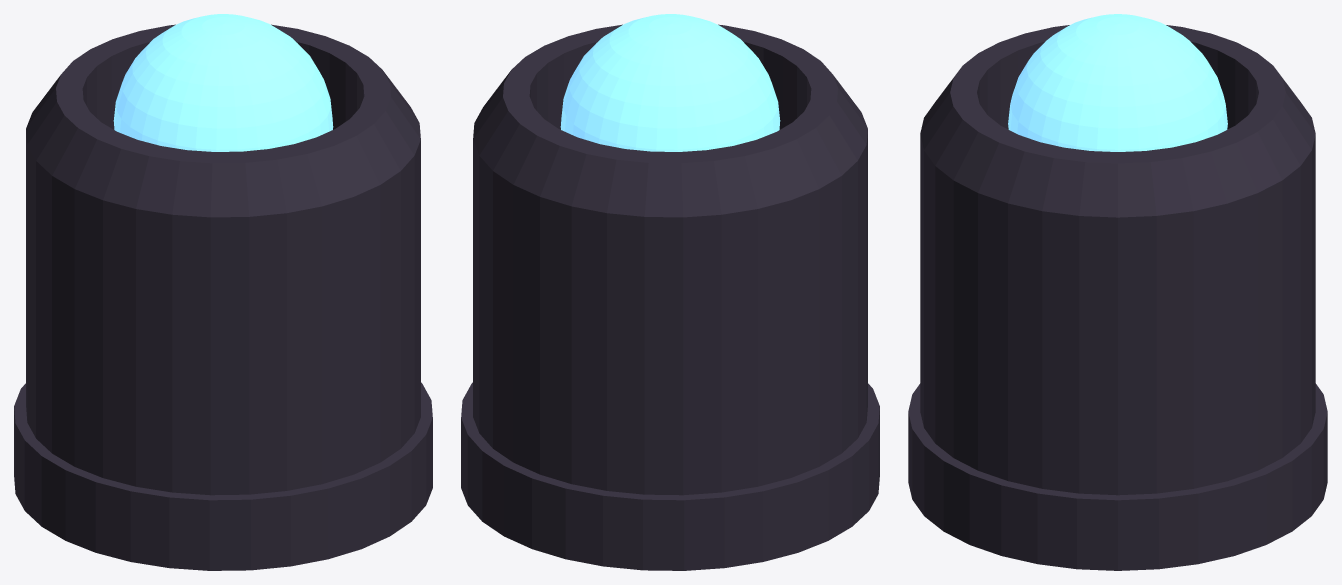
File: Player.fbx
3 renders of one model, left to right at view 1: azimuth 30°, elevation 25°; view 2: azimuth 150°, elevation 25°; view 3: azimuth 270°, elevation 25°, orthographic.
Parts seen in each view (by area): view 1: Sphere; view 2: Sphere; view 3: Sphere.
Boxes of the visible parts, x1,y1,x2,y2 form: Sphere: (14, 14, 432, 570); Sphere: (461, 14, 879, 570); Sphere: (908, 14, 1327, 570).
Size of the model in its own units: 382 by 460 by 382.
